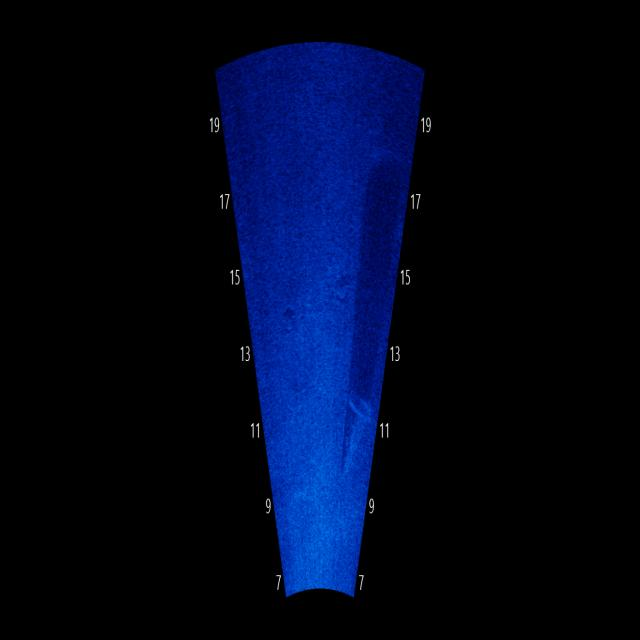circle: (278, 298, 308, 350), (329, 272, 354, 318)
triangle: (336, 378, 376, 491)
